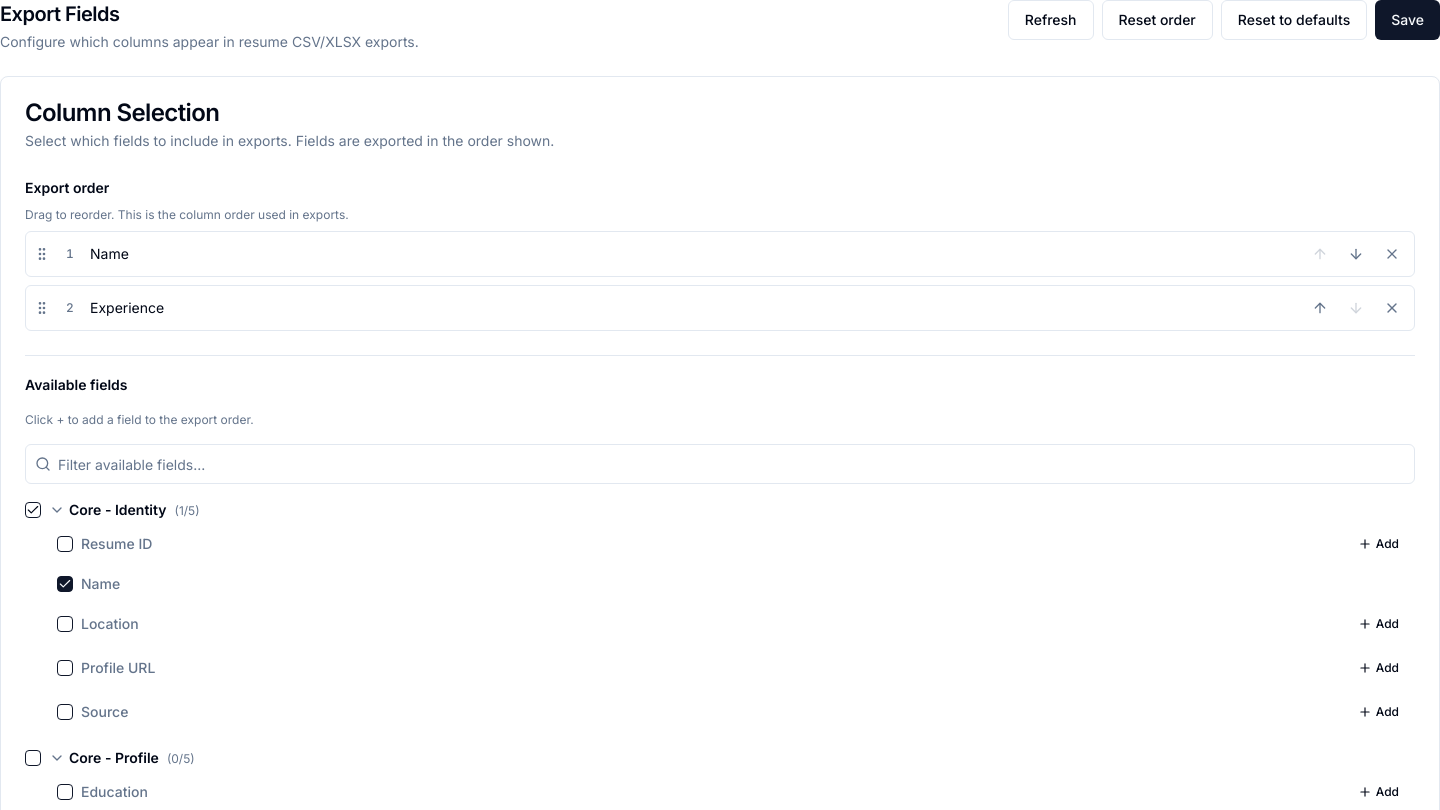
Test: SystemSettingsExportFieldsPage state › resets visible state back to effective defaults
The width and height of the screenshot is (1440, 810).
Click the button "Reset to defaults": (1294, 20) [1221,0,1367,40]
(page scrolled)
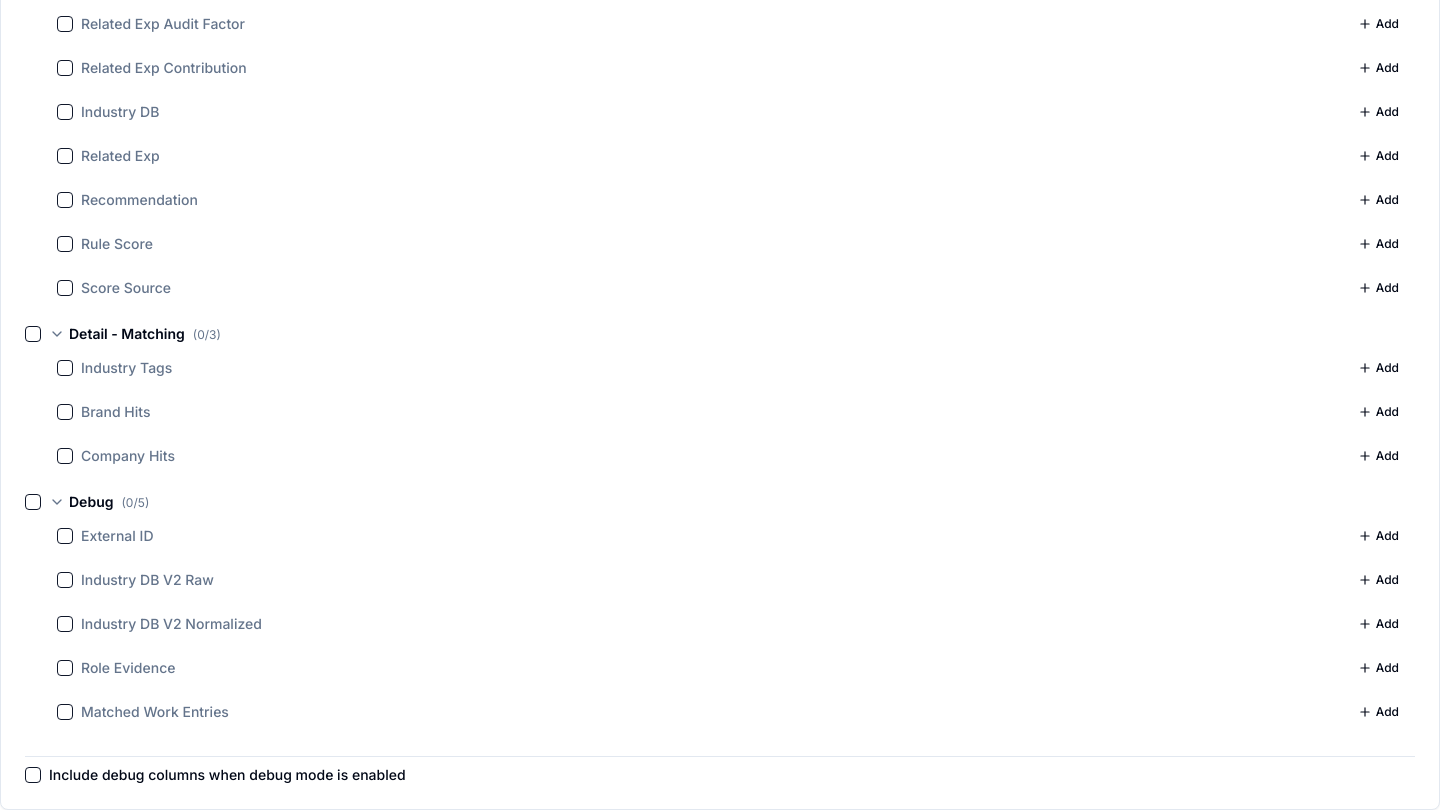
Expected: the checkbox named "Include debug columns when debug mode is enabled" is not checked, [25,767,41,783]
